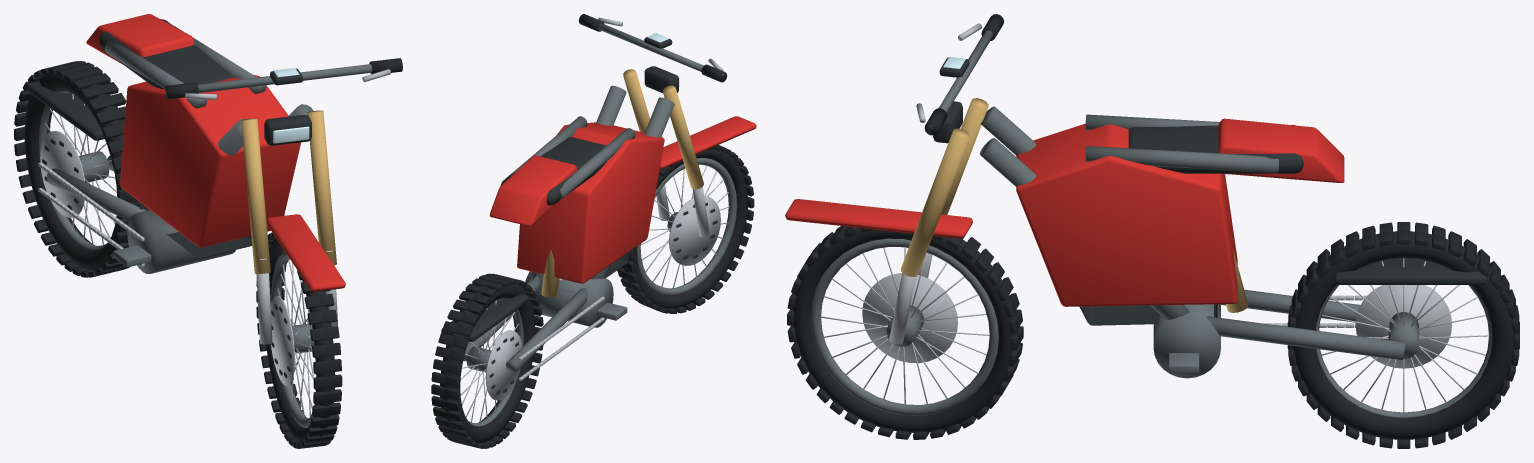
The model's file is Ebike_varg.glb.
3 renders of one model, left to right at view 1: azimuth 30°, elevation 25°; view 2: azimuth 150°, elevation 25°; view 3: azimuth 270°, elevation 25°, orthographic. The views are drawn at different scales.
Parts seen in each view (by area): view 1: Sculpted fairing, Tire.001, Box swingarm, Tire, Battery case, Inverted fork upper, Front mudguard, Steel spoke.024, Steel spoke, Fork stanchion, Rim, Rim.001 (+5 smaller); view 2: Sculpted fairing, Tire.001, Box swingarm, Tire, Steel spoke, Battery case, Steel spoke.024, Inverted fork upper, Rim, Front mudguard, Fork stanchion, Rim.001 (+5 smaller); view 3: Sculpted fairing, Tire.001, Box swingarm, Tire, Battery case, Steel spoke, Steel spoke.024, Rim, Inverted fork upper, Front mudguard, Rim.001, Fork stanchion (+3 smaller).
Part boxes in pixels (<box>): Sculpted fairing: <box>86,14,300,247</box>; Tire.001: <box>14,61,139,277</box>; Box swingarm: <box>46,25,313,273</box>; Tire: <box>256,232,342,448</box>; Battery case: <box>26,19,252,258</box>; Inverted fork upper: <box>241,110,336,273</box>; Front mudguard: <box>266,214,345,291</box>; Steel spoke.024: <box>40,94,116,245</box>; Steel spoke: <box>270,259,315,417</box>; Fork stanchion: <box>185,69,390,344</box>; Rim: <box>271,251,314,427</box>; Rim.001: <box>39,90,109,249</box>; Sculpted fairing: <box>489,122,664,283</box>; Tire.001: <box>431,273,543,448</box>; Box swingarm: <box>463,85,674,372</box>; Tire: <box>617,145,754,313</box>; Steel spoke: <box>641,165,729,288</box>; Battery case: <box>441,137,631,341</box>; Steel spoke.024: <box>460,300,522,422</box>; Inverted fork upper: <box>623,69,703,189</box>; Rim: <box>637,158,737,296</box>; Front mudguard: <box>659,116,756,168</box>; Fork stanchion: <box>598,17,723,237</box>; Rim.001: <box>466,297,523,426</box>; Sculpted fairing: <box>1016,118,1344,306</box>; Tire.001: <box>1287,222,1519,448</box>; Box swingarm: <box>980,106,1404,378</box>; Tire: <box>787,226,1023,439</box>; Battery case: <box>1079,125,1486,325</box>; Steel spoke: <box>820,247,989,405</box>; Steel spoke.024: <box>1322,258,1489,413</box>; Rim: <box>810,238,998,415</box>; Inverted fork upper: <box>901,98,988,276</box>; Front mudguard: <box>785,199,972,238</box>; Rim.001: <box>1316,257,1492,417</box>; Fork stanchion: <box>889,23,981,344</box>.
Bounding box in the file's own units: 0.7666 × 1.23 × 2.17.
